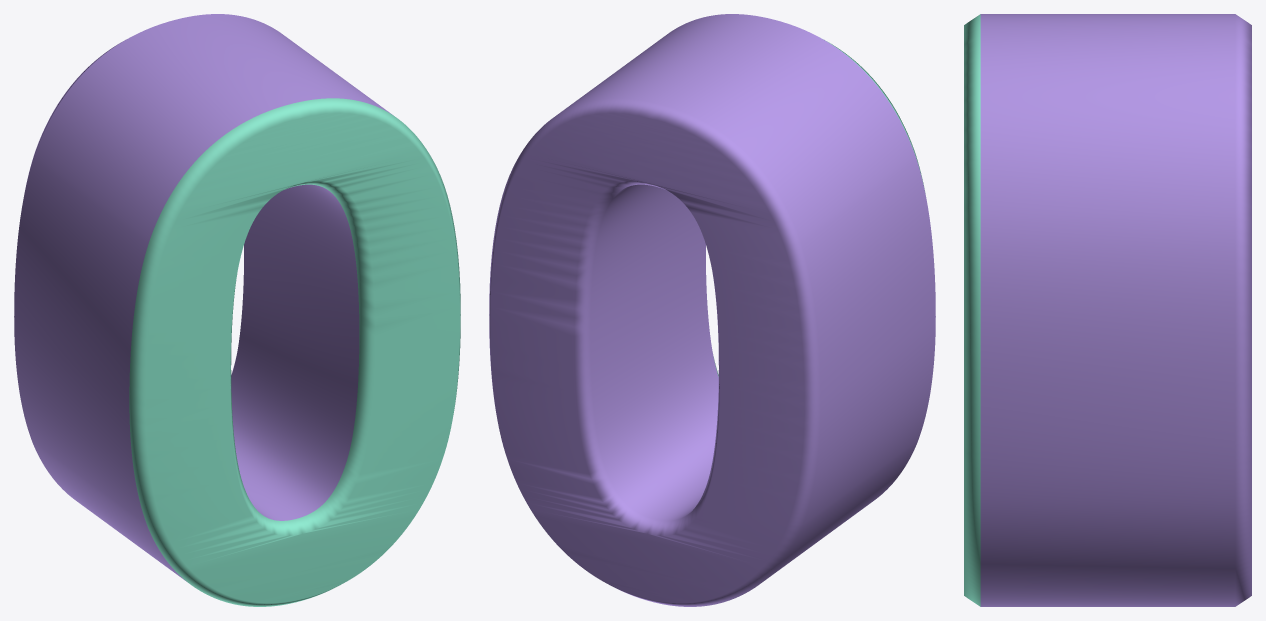
3 renders of one model, left to right at view 1: azimuth 30°, elevation 25°; view 2: azimuth 150°, elevation 25°; view 3: azimuth 270°, elevation 25°, orthographic. The views are drawn at different scales.
Visible parts, largest first — view 1: 0; view 2: 0; view 3: 0.
Boxes of the visible parts, x1,y1,x2,y2 form: 0: (14, 14, 460, 606); 0: (489, 14, 935, 606); 0: (964, 14, 1251, 606).
Size of the model in its own units: 114 by 164 by 77.6.
